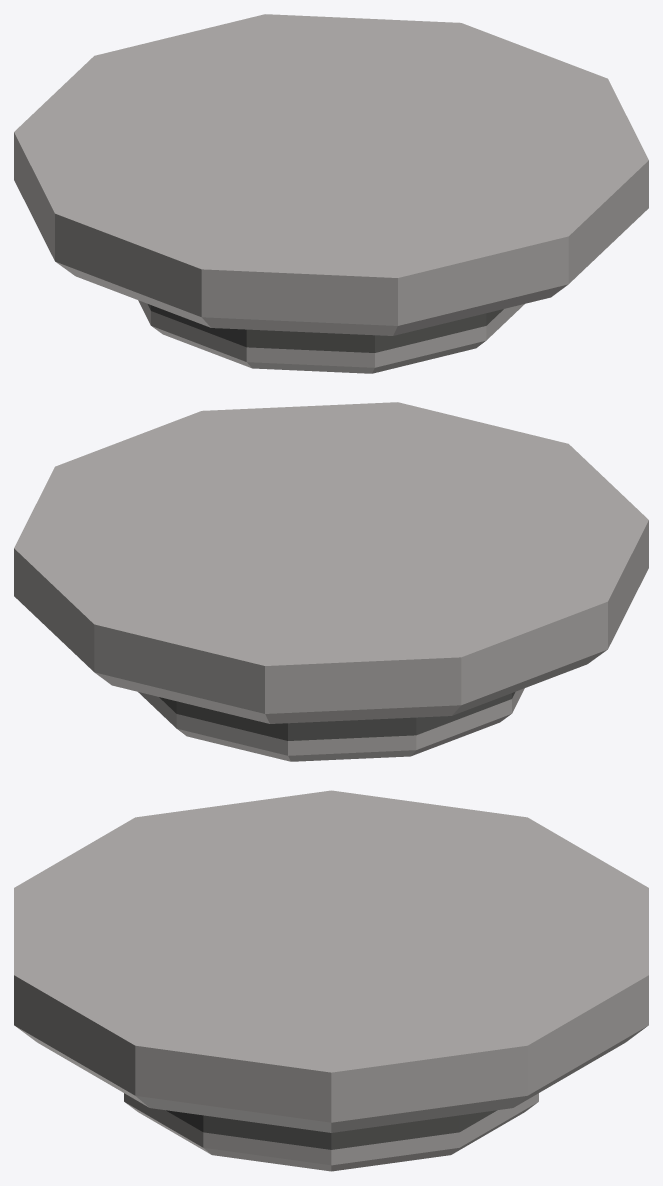
The model's file is SM_Prop_SmokeDetector_01.fbx.
3 views of the same model, one above another, from view 1: azimuth 30°, elevation 25°; view 2: azimuth 150°, elevation 25°; view 3: azimuth 270°, elevation 25° (orthographic). The views are drawn at different scales.
Parts seen in each view (by area): view 1: SM_Prop_SmokeDetector_01; view 2: SM_Prop_SmokeDetector_01; view 3: SM_Prop_SmokeDetector_01.
Boxes of the visible parts, bbox=[...] form: SM_Prop_SmokeDetector_01: bbox=[14, 14, 648, 373]; SM_Prop_SmokeDetector_01: bbox=[14, 402, 648, 761]; SM_Prop_SmokeDetector_01: bbox=[14, 790, 648, 1171].
Size of the model in its own units: 25.54 by 6.91 by 24.29.
1 material, 1 textured.
